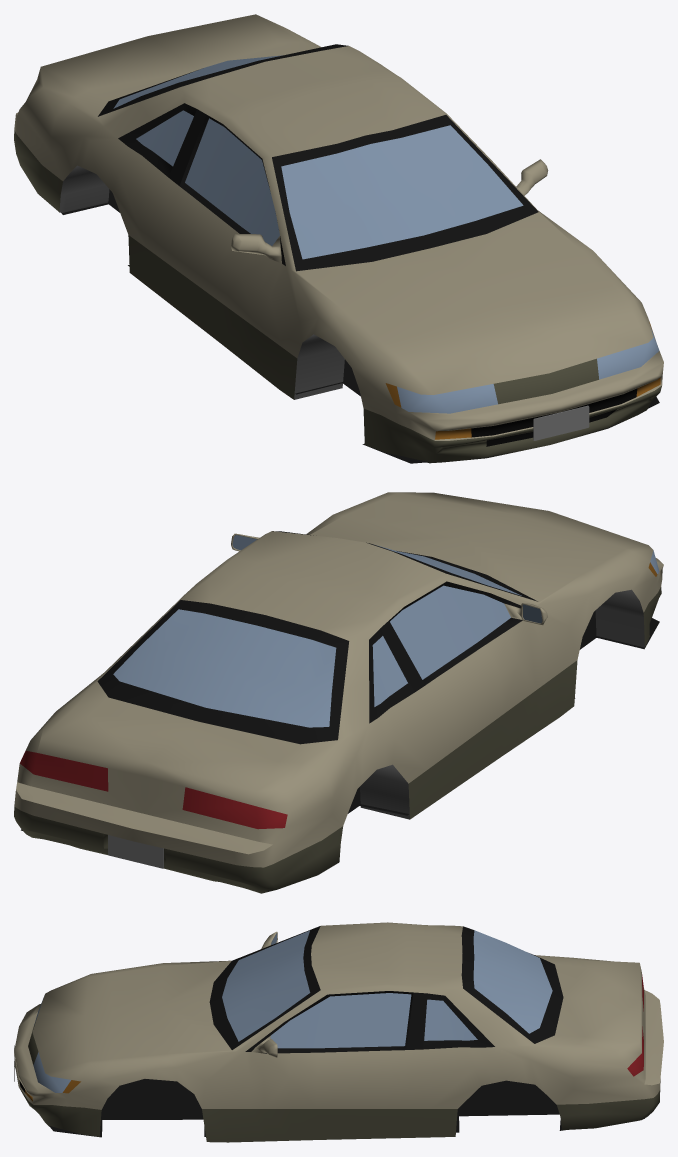
File: silvia_s13_ver2.gltf
3 renders of one model, top to bottom at view 1: azimuth 30°, elevation 25°; view 2: azimuth 150°, elevation 25°; view 3: azimuth 270°, elevation 25°, orthographic. The views are drawn at different scales.
Parts seen in each view (by area): view 1: SilviaS13, Numberplate; view 2: SilviaS13, Numberplate.001; view 3: SilviaS13.
Part boxes in pixels (box(x1,y1,x2,y2)): SilviaS13: box(14, 14, 663, 463); Numberplate: box(533, 405, 589, 440); SilviaS13: box(14, 492, 663, 893); Numberplate.001: box(108, 835, 163, 868); SilviaS13: box(14, 922, 663, 1142).
Bounding box in the file's own units: 1.9 × 1.07 × 4.48.
